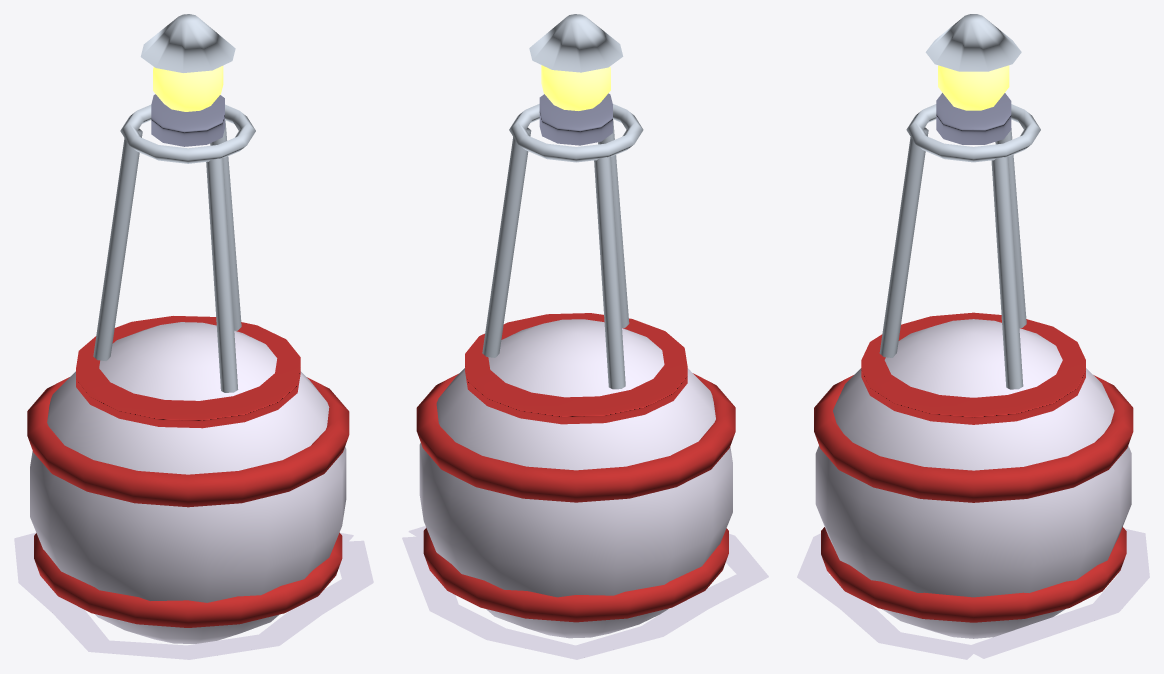
Rendered from buoy.glb.
3 views of the same model, side by side, from view 1: azimuth 30°, elevation 25°; view 2: azimuth 150°, elevation 25°; view 3: azimuth 270°, elevation 25° (orthographic).
Parts seen in each view (by area): view 1: Buoy.001; view 2: Buoy.001; view 3: Buoy.001.
Part boxes in pixels (x1,y1,x2,y2): Buoy.001: (14, 14, 373, 659); Buoy.001: (402, 14, 768, 659); Buoy.001: (797, 14, 1149, 659).
Bounding box in the file's own units: 0.684 × 1.25 × 0.6592.
